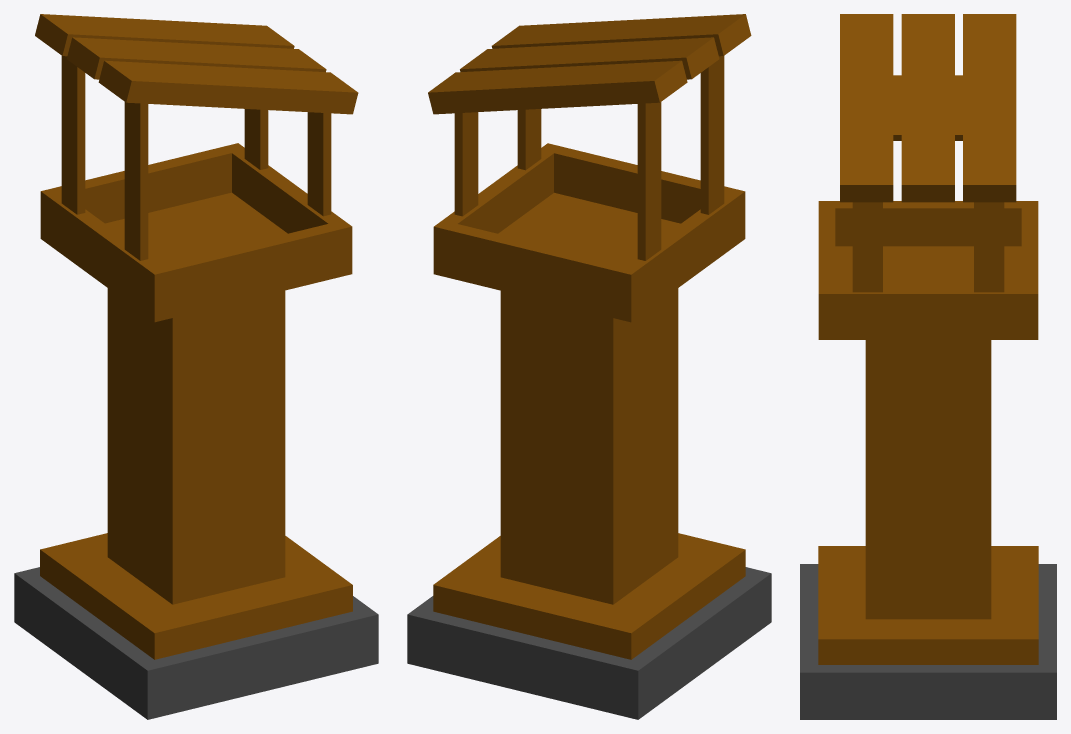
File: WatchTower.fbx
3 views of the same model, side by side, from view 1: azimuth 30°, elevation 25°; view 2: azimuth 150°, elevation 25°; view 3: azimuth 270°, elevation 25° (orthographic). The views are drawn at different scales.
Parts seen in each view (by area): view 1: Plane.006; view 2: Plane.006; view 3: Plane.006.
Part boxes in pixels (x1,y1,x2,y2): Plane.006: (14,14,378,719); Plane.006: (407,14,771,719); Plane.006: (800,14,1056,719).
Size of the model in its own units: 823 by 2108 by 818.
